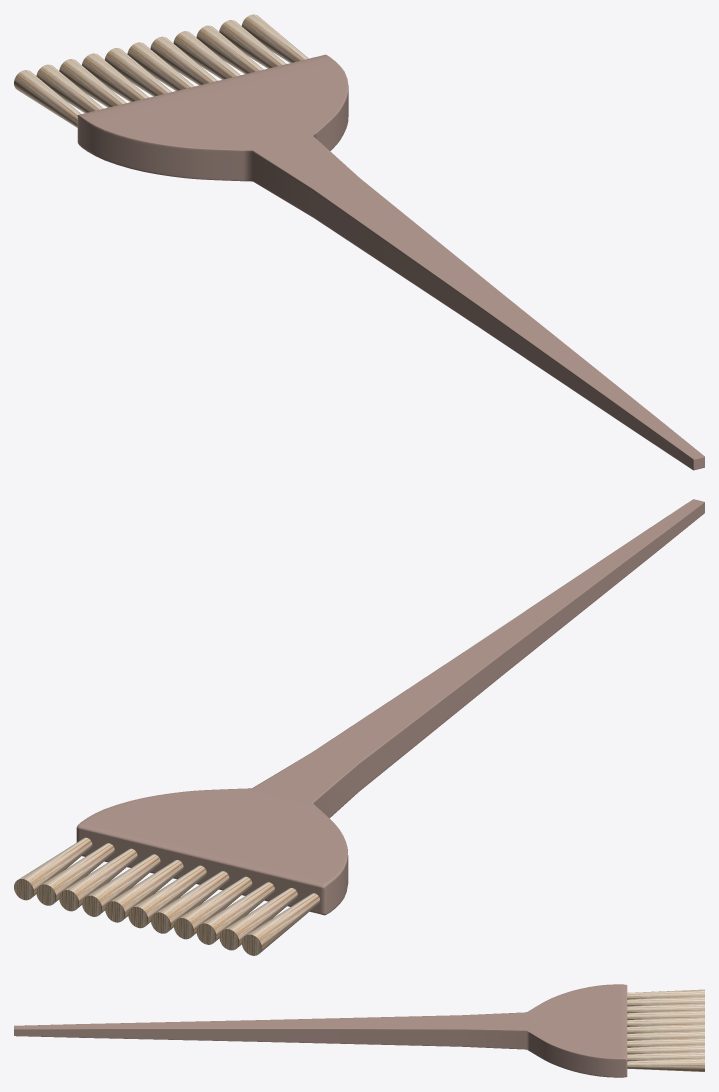
File: paint.fbx
The picture shows the model from 3 angles, top to bottom: view 1: azimuth 30°, elevation 25°; view 2: azimuth 150°, elevation 25°; view 3: azimuth 270°, elevation 25°; orthographic projection. The views are drawn at different scales.
Parts seen in each view (by area): view 1: pasted__pCube1, pasted__pCylinder1, pasted__pCylinder7, pasted__pCylinder8, pasted__pCylinder9, pasted__pCylinder3, pasted__pCylinder5, pasted__pCylinder11, pasted__pCylinder6, pasted__pCylinder4, pasted__pCylinder10, pasted__pCylinder2; view 2: pasted__pCube1, pasted__pCylinder1, pasted__pCylinder8, pasted__pCylinder7, pasted__pCylinder9, pasted__pCylinder5, pasted__pCylinder3, pasted__pCylinder11, pasted__pCylinder6, pasted__pCylinder4, pasted__pCylinder2, pasted__pCylinder10; view 3: pasted__pCube1, pasted__pCylinder10, pasted__pCylinder7, pasted__pCylinder8, pasted__pCylinder6, pasted__pCylinder2, pasted__pCylinder9, pasted__pCylinder4, pasted__pCylinder3, pasted__pCylinder5, pasted__pCylinder1, pasted__pCylinder11.
Boxes of the visible parts, x1=… form: pasted__pCube1: x1=77, y1=54, x2=704, y2=470; pasted__pCylinder1: x1=14, y1=70, x2=81, y2=127; pasted__pCylinder7: x1=150, y1=36, x2=217, y2=85; pasted__pCylinder8: x1=173, y1=31, x2=240, y2=79; pasted__pCylinder9: x1=196, y1=25, x2=263, y2=73; pasted__pCylinder3: x1=59, y1=59, x2=126, y2=107; pasted__pCylinder5: x1=104, y1=48, x2=171, y2=96; pasted__pCylinder11: x1=219, y1=20, x2=285, y2=68; pasted__pCylinder6: x1=127, y1=42, x2=194, y2=90; pasted__pCylinder4: x1=82, y1=53, x2=148, y2=101; pasted__pCylinder10: x1=241, y1=14, x2=308, y2=62; pasted__pCylinder2: x1=36, y1=64, x2=103, y2=113; pasted__pCube1: x1=76, y1=499, x2=704, y2=915; pasted__pCylinder1: x1=242, y1=893, x2=320, y2=955; pasted__pCylinder8: x1=82, y1=854, x2=160, y2=916; pasted__pCylinder7: x1=105, y1=860, x2=183, y2=922; pasted__pCylinder9: x1=59, y1=848, x2=137, y2=911; pasted__pCylinder5: x1=151, y1=871, x2=229, y2=933; pasted__pCylinder3: x1=196, y1=882, x2=274, y2=944; pasted__pCylinder11: x1=36, y1=843, x2=114, y2=905; pasted__pCylinder6: x1=128, y1=865, x2=206, y2=928; pasted__pCylinder4: x1=174, y1=876, x2=252, y2=939; pasted__pCylinder2: x1=219, y1=888, x2=297, y2=950; pasted__pCylinder10: x1=14, y1=837, x2=92, y2=900; pasted__pCube1: x1=14, y1=984, x2=627, y2=1077; pasted__pCylinder10: x1=627, y1=1058, x2=704, y2=1071; pasted__pCylinder7: x1=627, y1=1030, x2=704, y2=1040; pasted__pCylinder8: x1=627, y1=1037, x2=704, y2=1047; pasted__pCylinder6: x1=627, y1=1023, x2=704, y2=1033; pasted__pCylinder2: x1=627, y1=996, x2=704, y2=1006; pasted__pCylinder9: x1=627, y1=1044, x2=704, y2=1054; pasted__pCylinder4: x1=627, y1=1010, x2=704, y2=1019; pasted__pCylinder3: x1=627, y1=1003, x2=704, y2=1013; pasted__pCylinder5: x1=627, y1=1017, x2=704, y2=1026; pasted__pCylinder1: x1=627, y1=989, x2=704, y2=999; pasted__pCylinder11: x1=627, y1=1051, x2=704, y2=1061.
Size of the model in its own units: 6.25 by 0.743 by 24.42.
2 materials, 1 textured.
